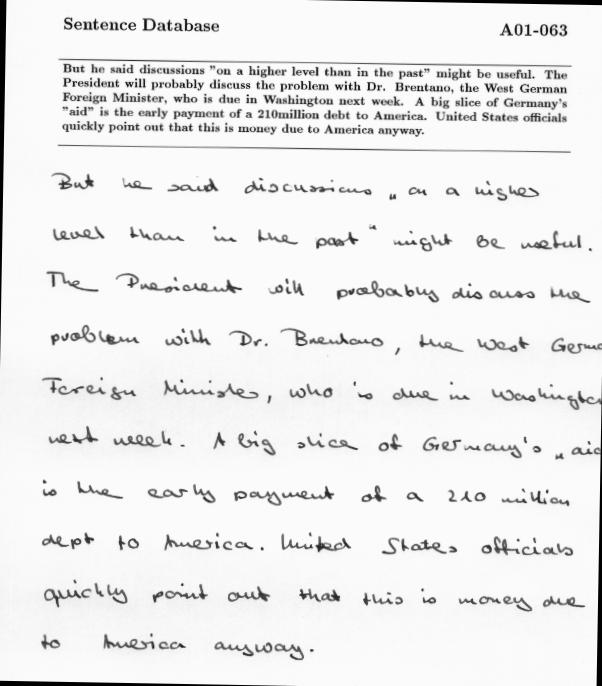text: (38, 577, 590, 621), (38, 370, 601, 413), (50, 216, 597, 259), (42, 424, 600, 464), (42, 268, 594, 307), (45, 320, 602, 358), (38, 526, 576, 563), (38, 477, 572, 514), (48, 168, 542, 204), (61, 72, 568, 100), (59, 86, 569, 113), (60, 102, 569, 128), (61, 59, 570, 83), (36, 627, 318, 663), (58, 117, 426, 142), (62, 13, 222, 37), (496, 20, 570, 42)
